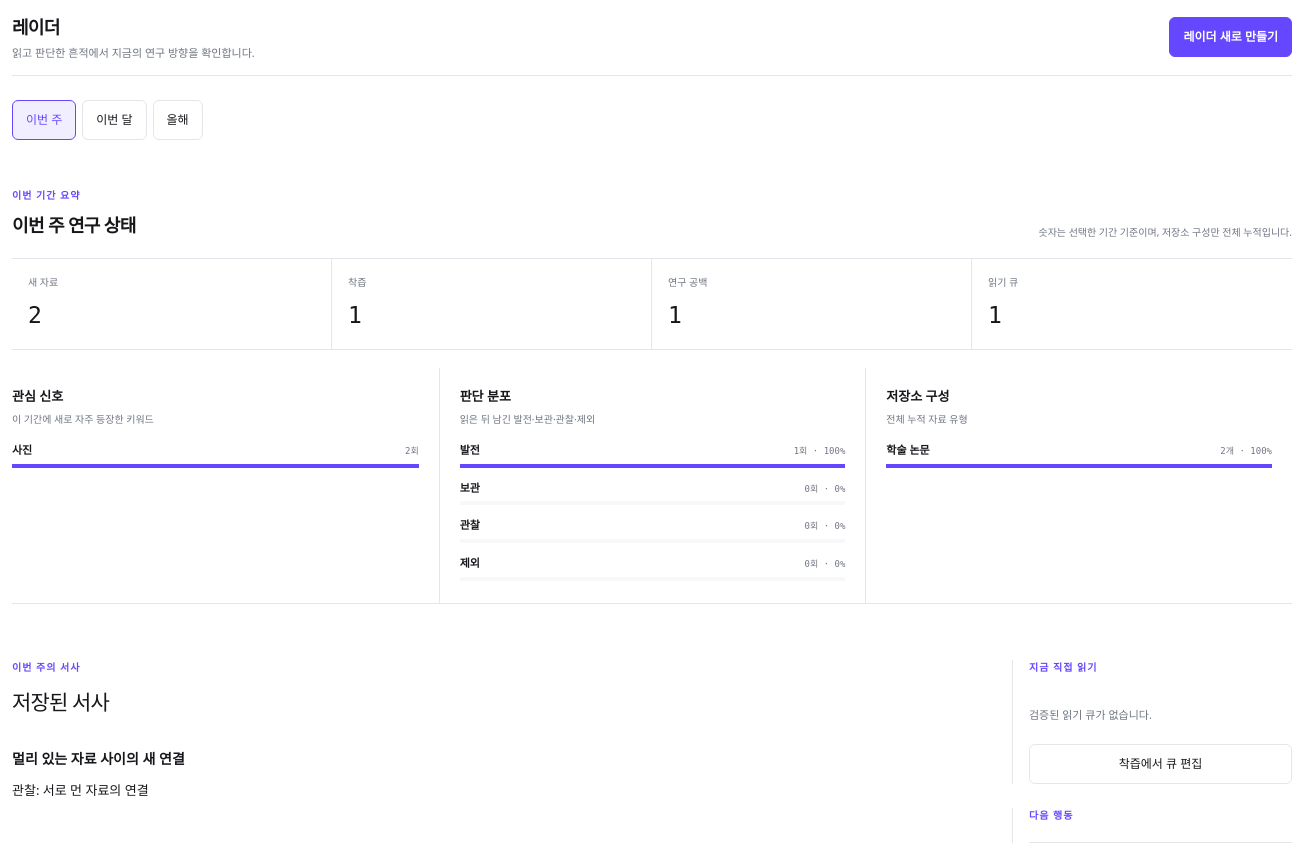
Test: RadarView › does not show another period's saved narrative
Expected: the text "저장된 서사" is shown, 12,688 -> 109,716
Click the button "이번 달".
click(114, 120)  # box 82,100 -> 147,140
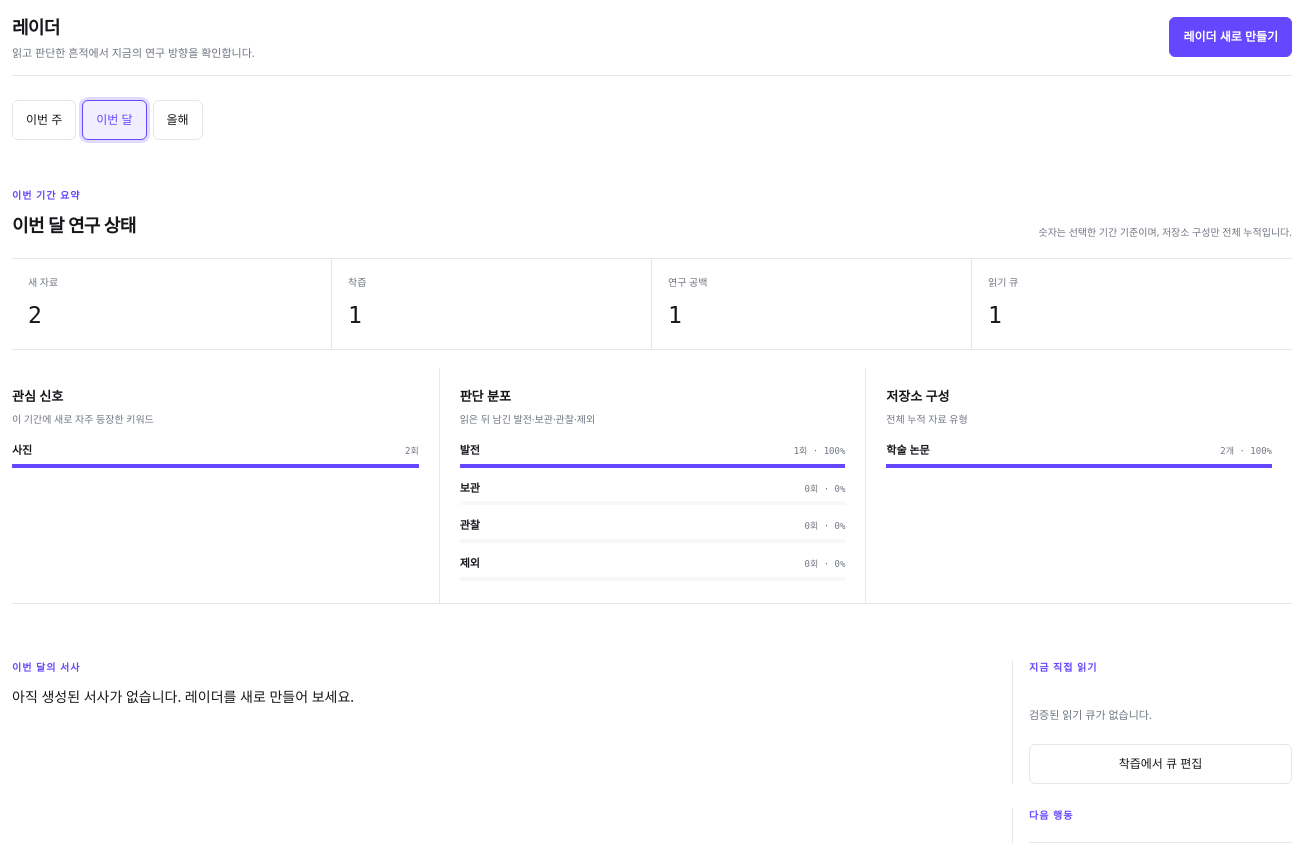
Result: the text "저장된 서사" is gone
